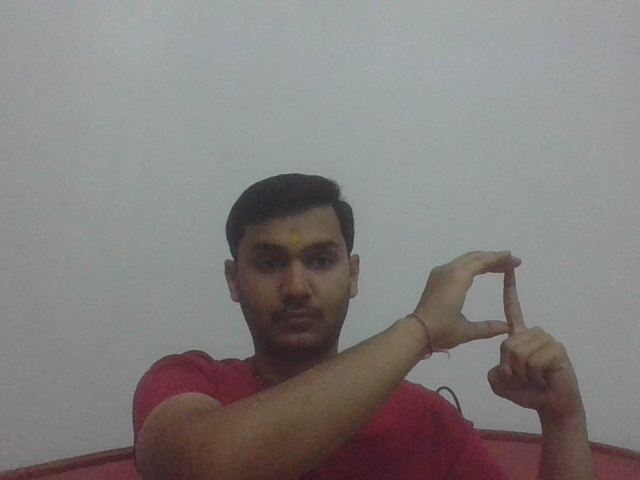D: (414, 250, 593, 411)
